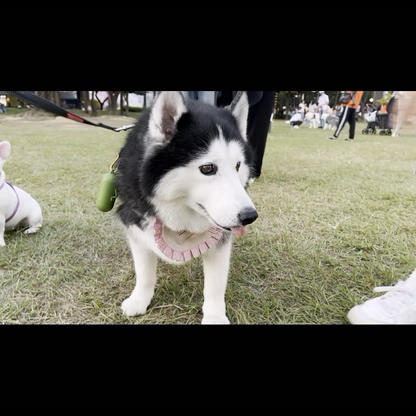husky: (107, 92, 261, 322)
